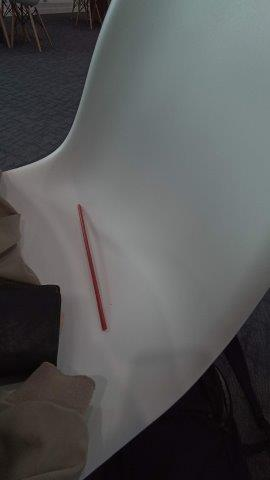sedotan: (77, 204, 107, 330)
